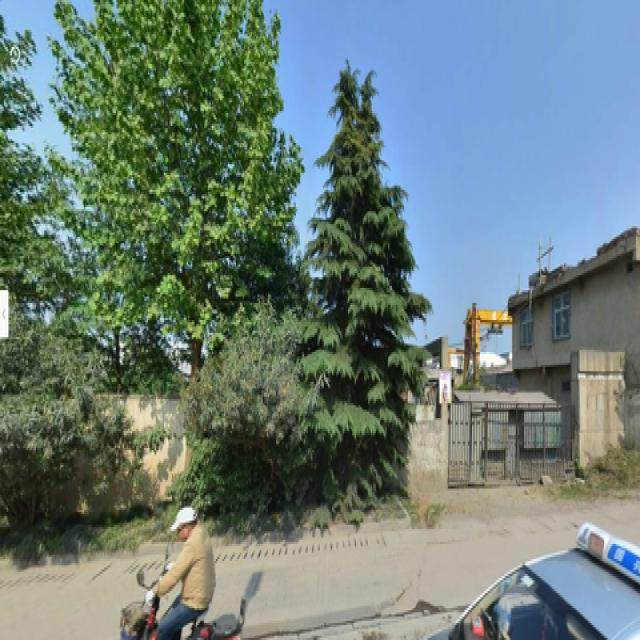cedr: (304, 62, 413, 512)
